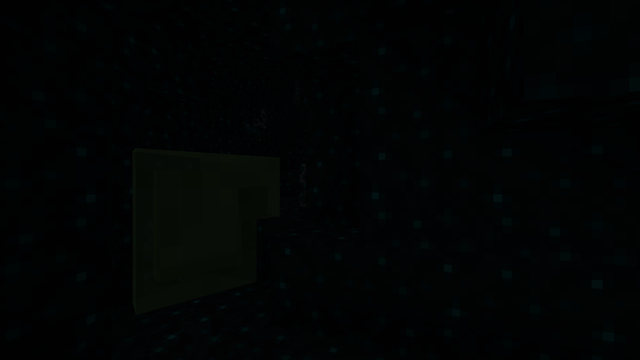slimes: (140, 142, 281, 311)
